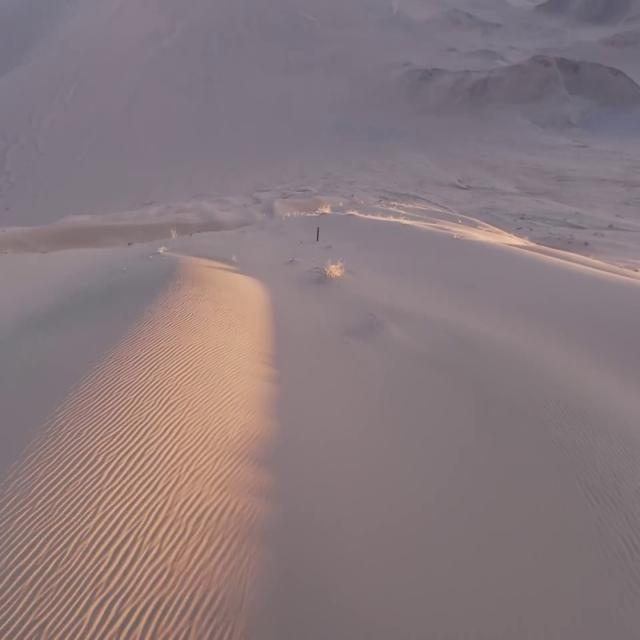Tire: (317, 226, 319, 242)
